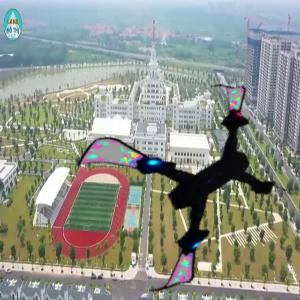drone: (95, 98, 287, 290)
